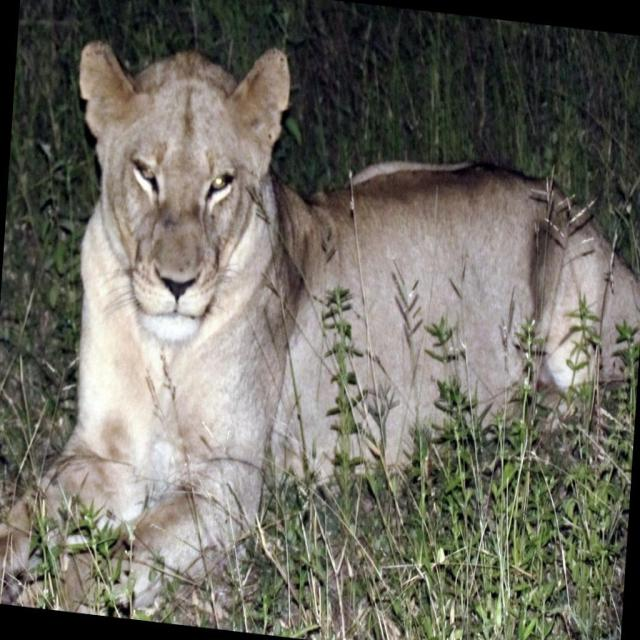Lion: (0, 18, 639, 639)
